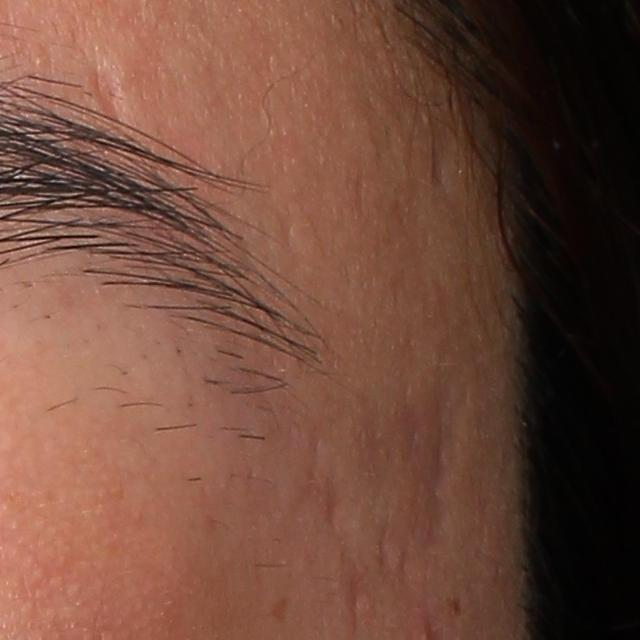atrophic_scar: (417, 385, 461, 551), (86, 57, 134, 147), (340, 568, 367, 634)
melasma: (266, 596, 293, 626)
